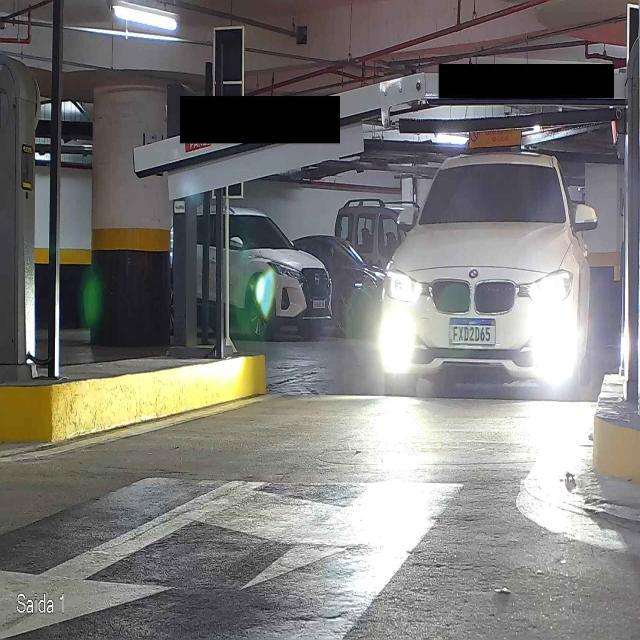mercosul_plate: (448, 316, 497, 346)
